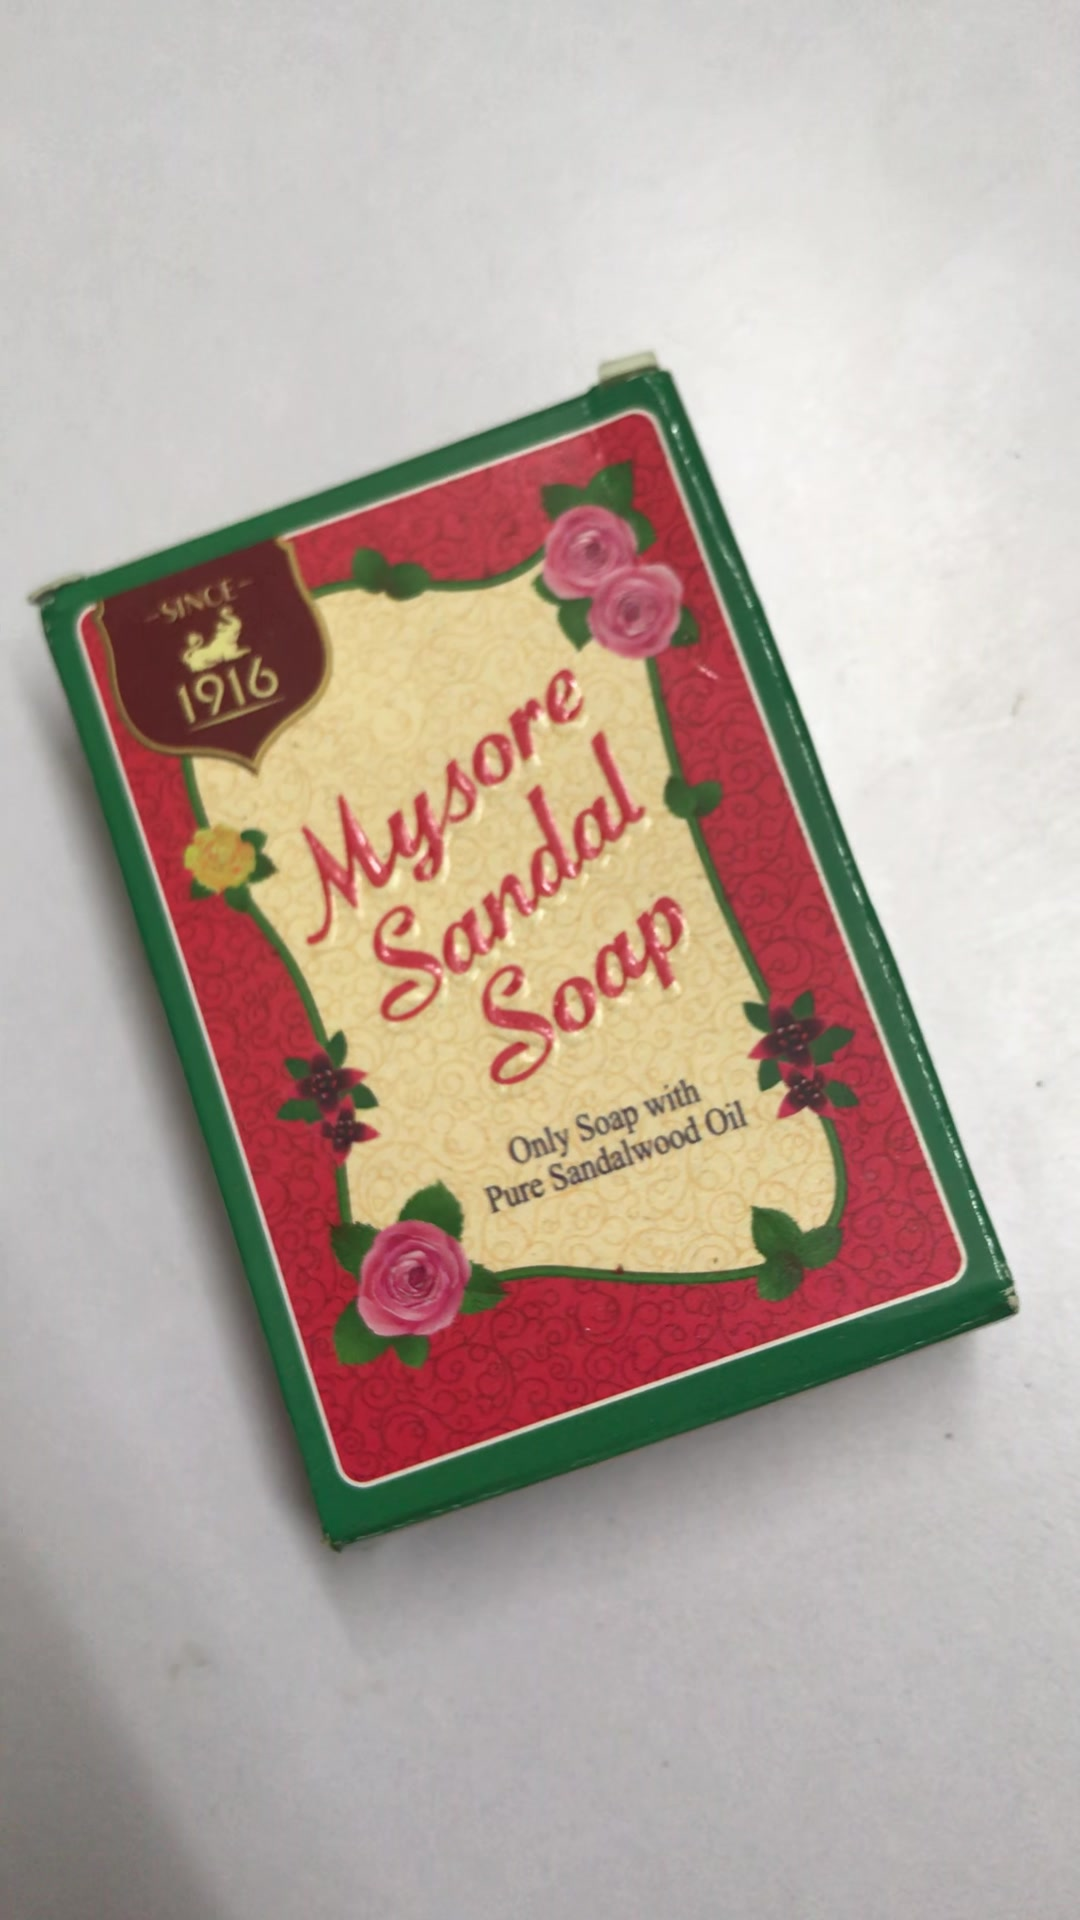mysore sandal soap: (36, 363, 1021, 1552)
